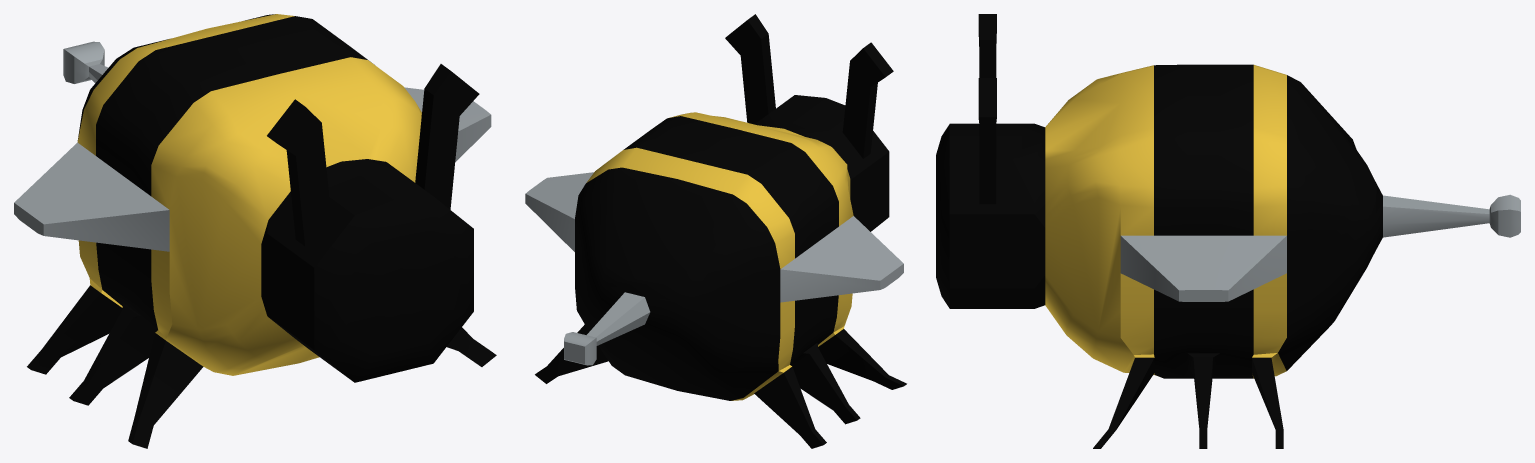
Rendered from abelha2 (1).fbx.
3 views of the same model, side by side, from view 1: azimuth 30°, elevation 25°; view 2: azimuth 150°, elevation 25°; view 3: azimuth 270°, elevation 25° (orthographic). The views are drawn at different scales.
Parts seen in each view (by area): view 1: Cube; view 2: Cube; view 3: Cube.
Part boxes in pixels (x1=…): Cube: x1=14, y1=14, x2=496, y2=448; Cube: x1=525, y1=14, x2=906, y2=448; Cube: x1=936, y1=14, x2=1520, y2=448.
Bounding box in the file's own units: 55.51 × 43.26 × 69.6.
